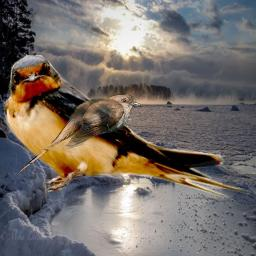Cuckoo: (18, 93, 143, 174)
Swallow: (1, 54, 251, 207)
